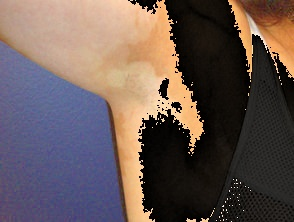vitiligo: (0, 0, 203, 222)
